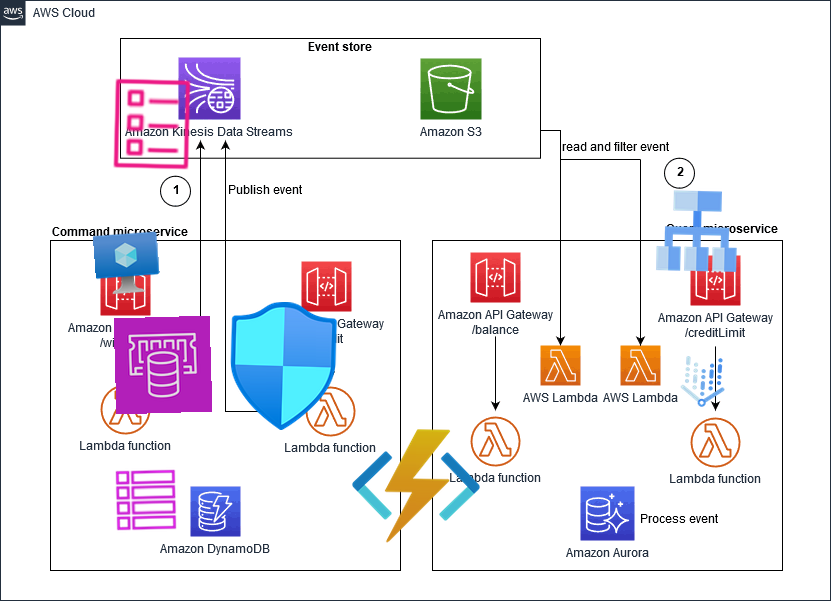aws_amazon_elasticache: (113, 315, 213, 415)
aws_cloudformation_template: (101, 74, 201, 174)
aws_dynamodb_table: (113, 467, 179, 533)
azure_function_apps: (350, 420, 482, 552)
azure_network_security_groups: (217, 300, 349, 432)
azure_virtual_machine: (92, 230, 162, 300)
gcp_cloud_load_balancing: (647, 181, 747, 281)
gcp_vertex_ai: (669, 348, 737, 416)
